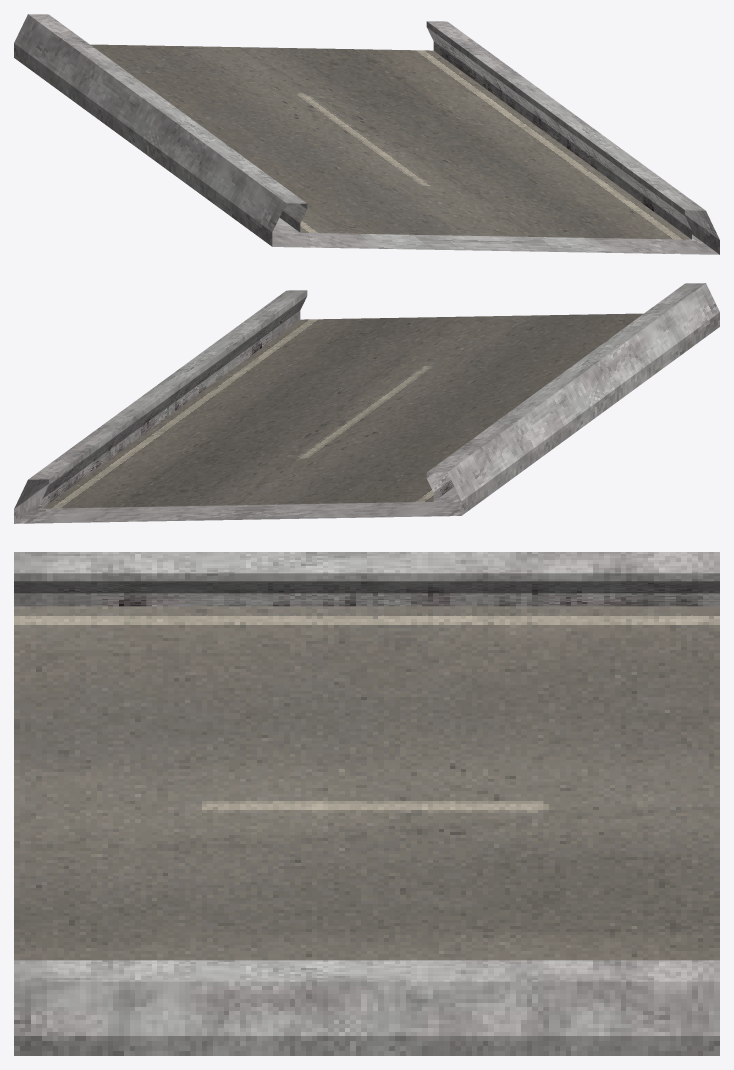
The model's file is road-Straight-HalfBankedRight-HalfBankedRight-Even-Center-Size1.glb.
The picture shows the model from 3 angles, top to bottom: view 1: azimuth 30°, elevation 25°; view 2: azimuth 150°, elevation 25°; view 3: azimuth 270°, elevation 25°; orthographic projection. The views are drawn at different scales.
Parts seen in each view (by area): view 1: road-Straight-HalfBankedRight-HalfBankedRight-Even-Center-Si; view 2: road-Straight-HalfBankedRight-HalfBankedRight-Even-Center-Si; view 3: road-Straight-HalfBankedRight-HalfBankedRight-Even-Center-Si.
Part boxes in pixels (x1=…): road-Straight-HalfBankedRight-HalfBankedRight-Even-Center-Si: x1=14, y1=14, x2=719, y2=254; road-Straight-HalfBankedRight-HalfBankedRight-Even-Center-Si: x1=14, y1=283, x2=719, y2=523; road-Straight-HalfBankedRight-HalfBankedRight-Even-Center-Si: x1=14, y1=552, x2=719, y2=1055.
Bounding box in the file's own units: 1 × 0.3359 × 1.
Materials: 2 (2 with a texture image).
